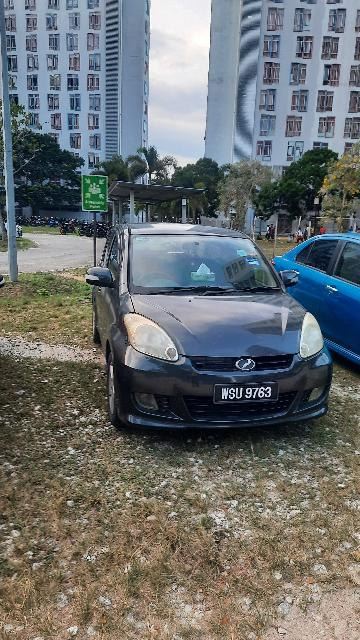License_Plate: (208, 381, 282, 403)
car: (85, 220, 335, 437)
